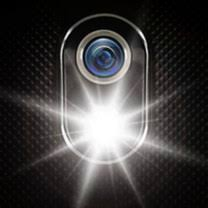flash: (34, 76, 175, 181)
